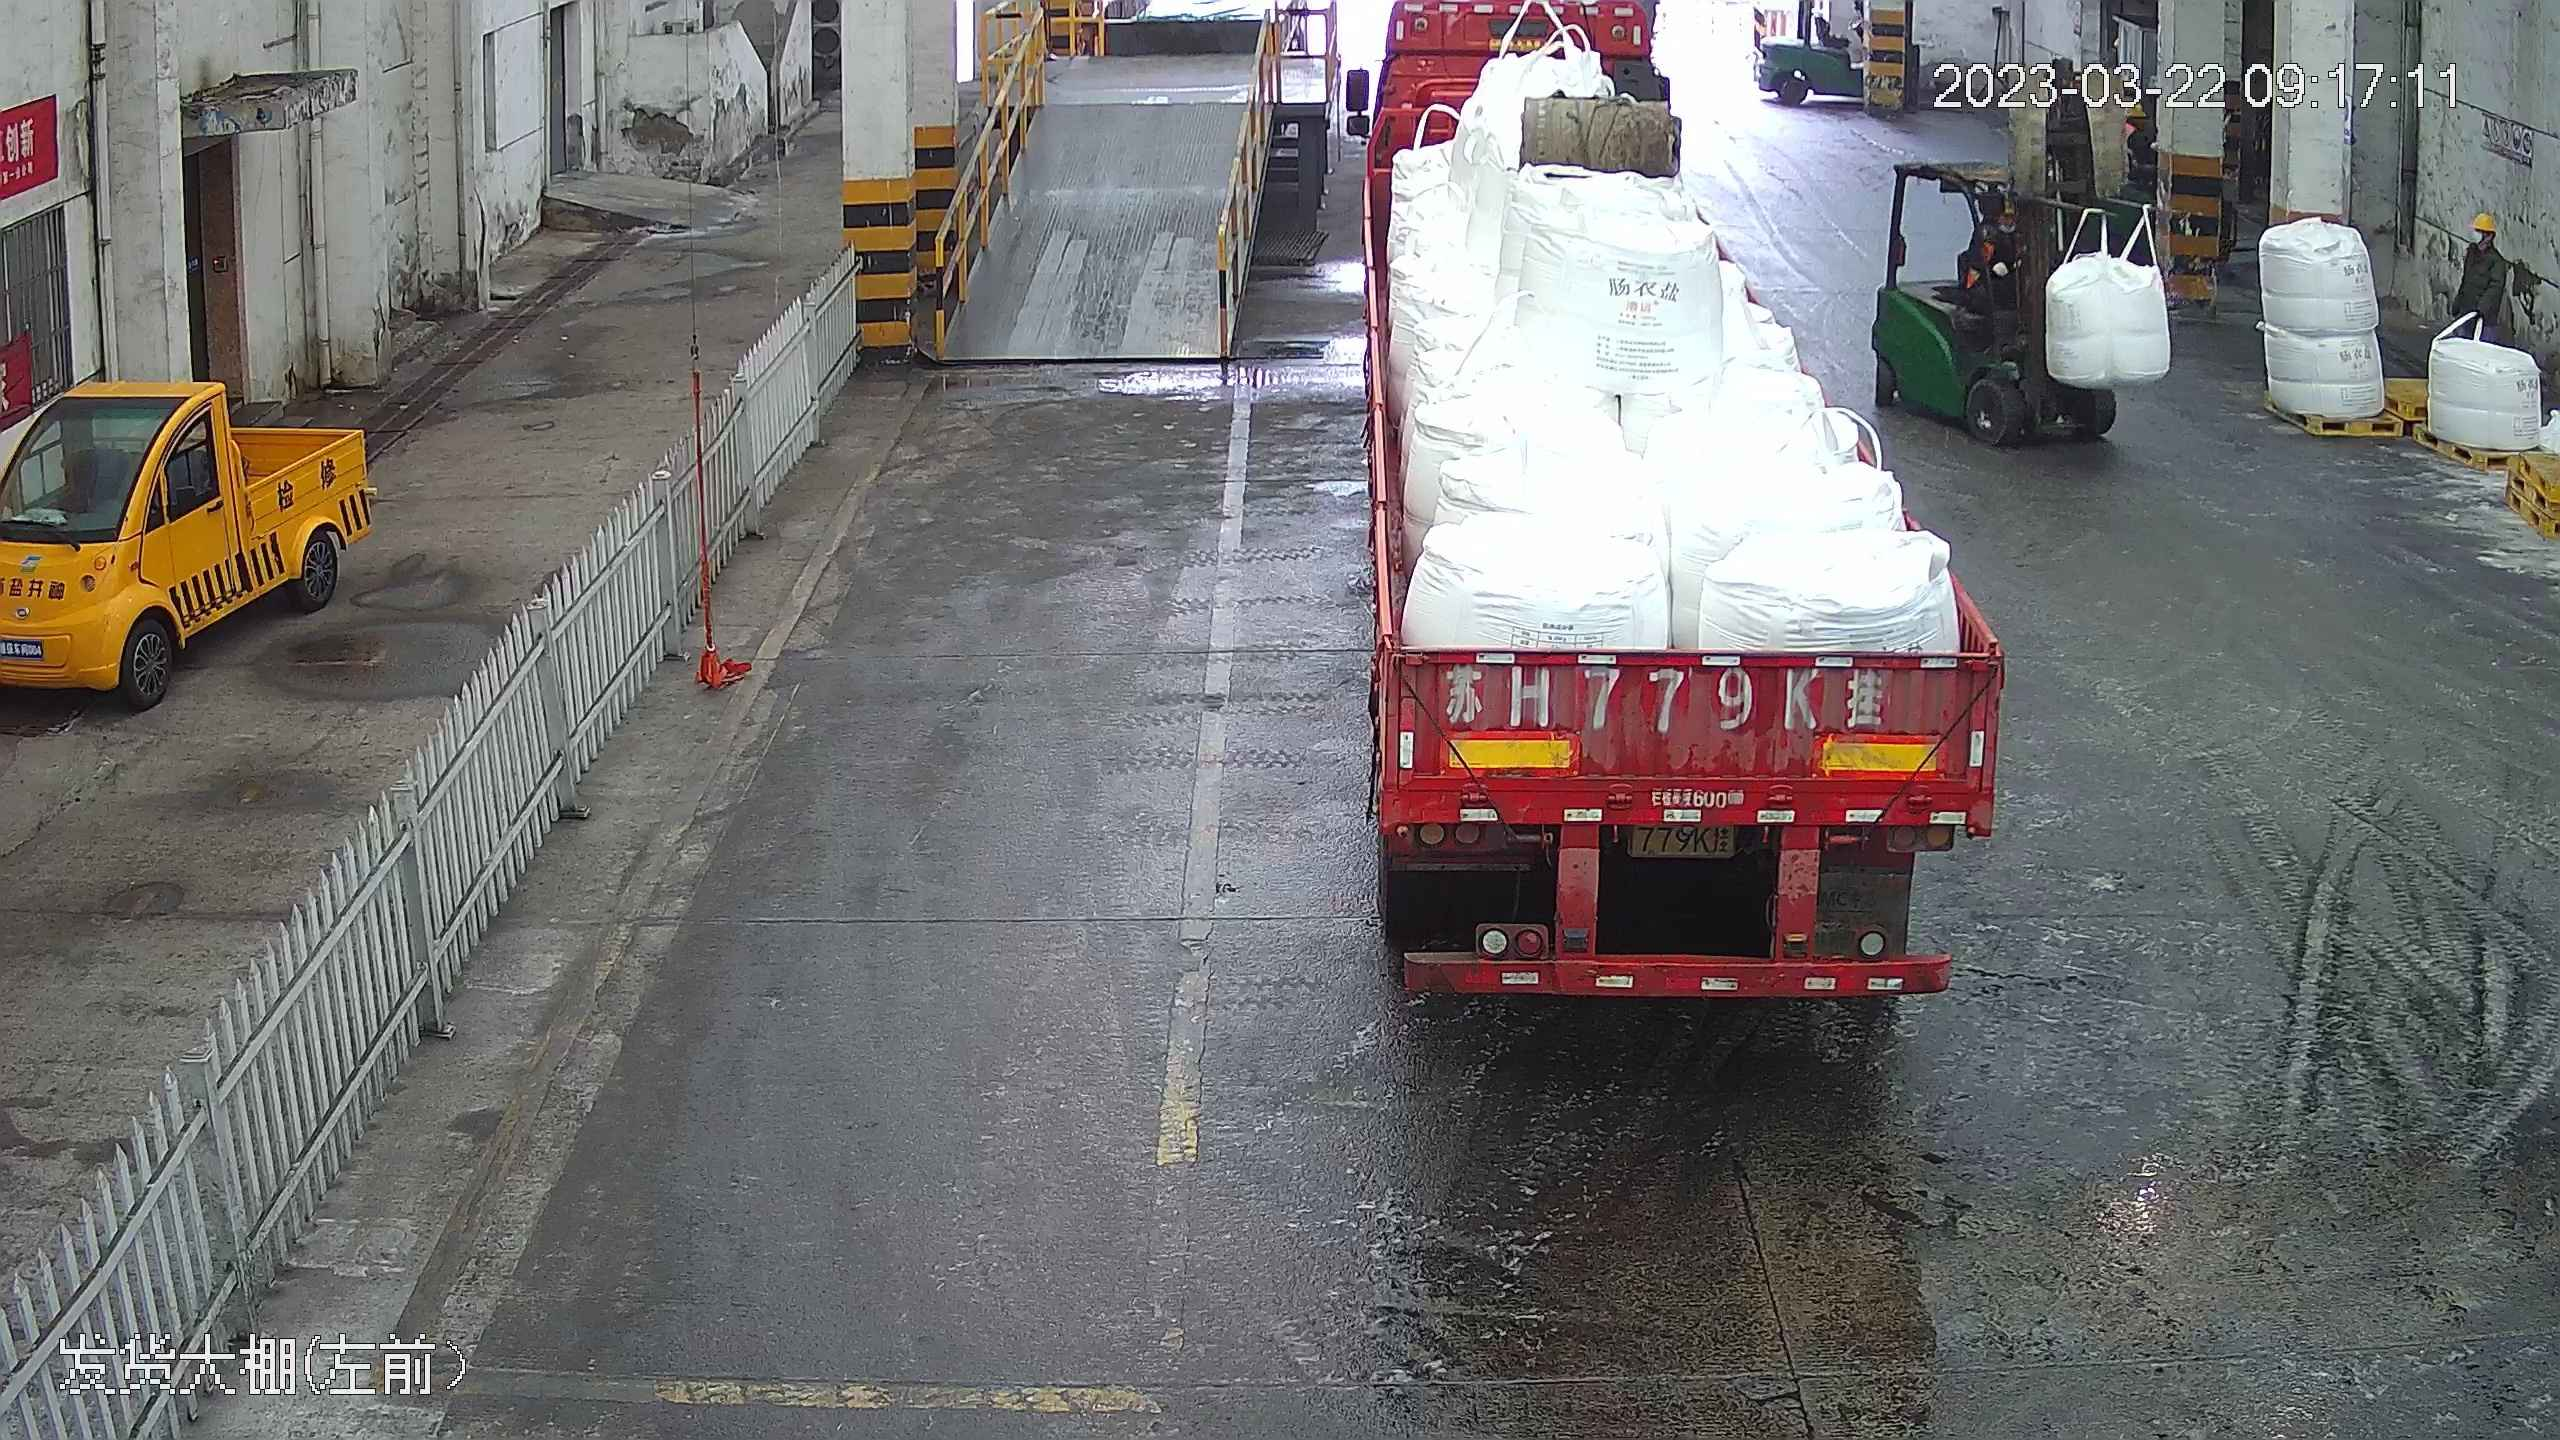head: (2461, 213, 2506, 267)
helmet: (2472, 212, 2496, 232)
people: (2452, 213, 2510, 346)
truck: (1337, 0, 1998, 993)
